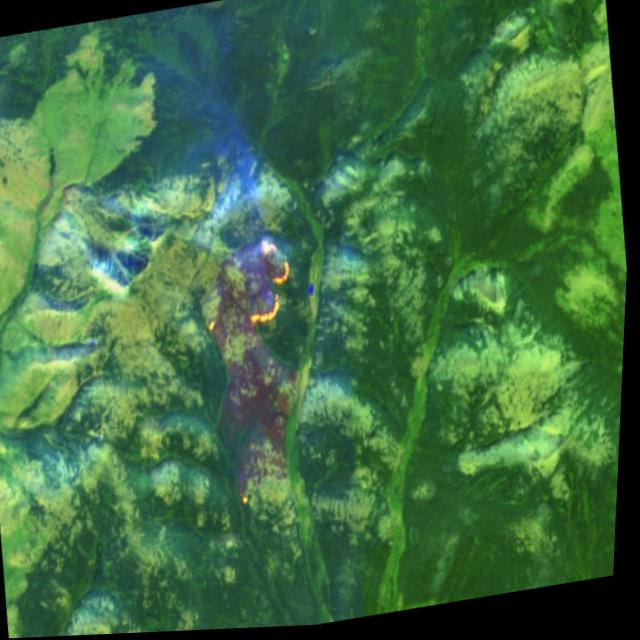fire: (192, 227, 305, 347)
